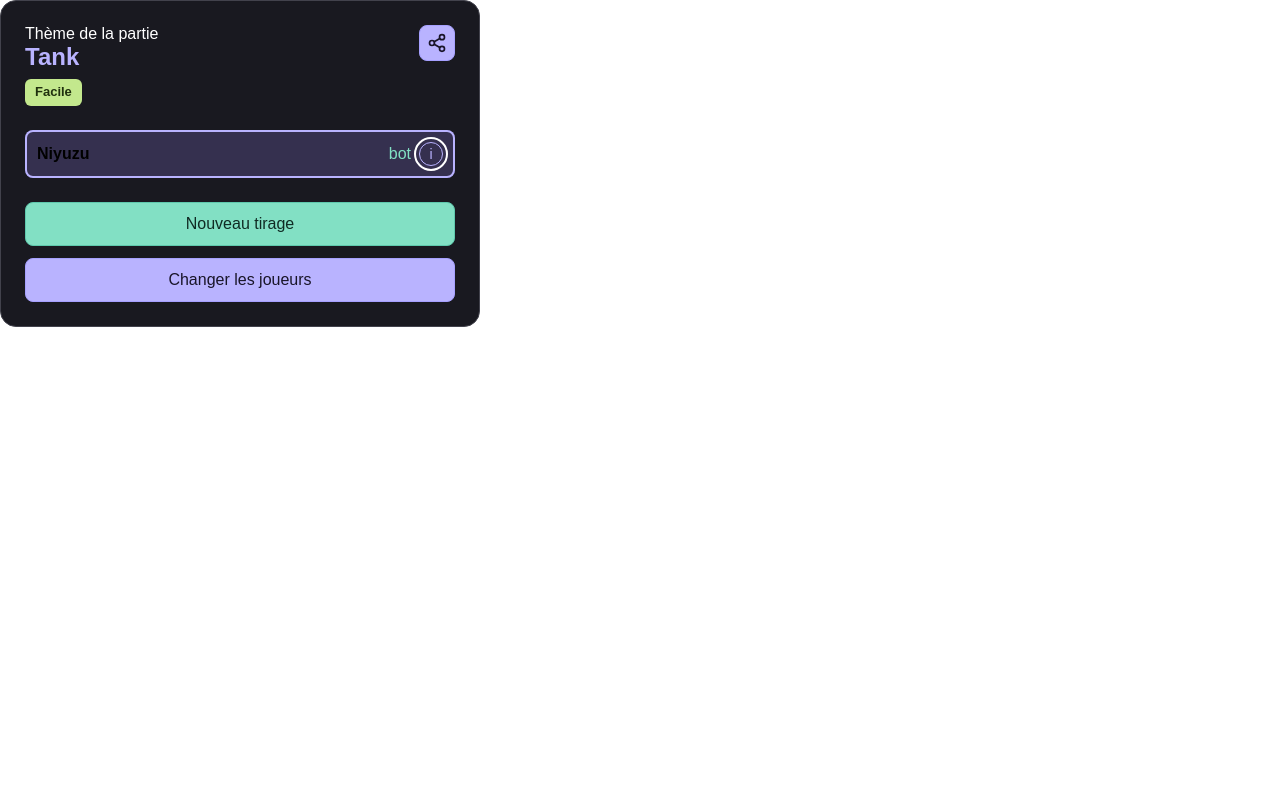
it: champion popup › explains an empty intersection
The width and height of the screenshot is (1280, 800).
Click the button "i" at (431, 154), box top-left (419, 142), bottom-right (443, 166)
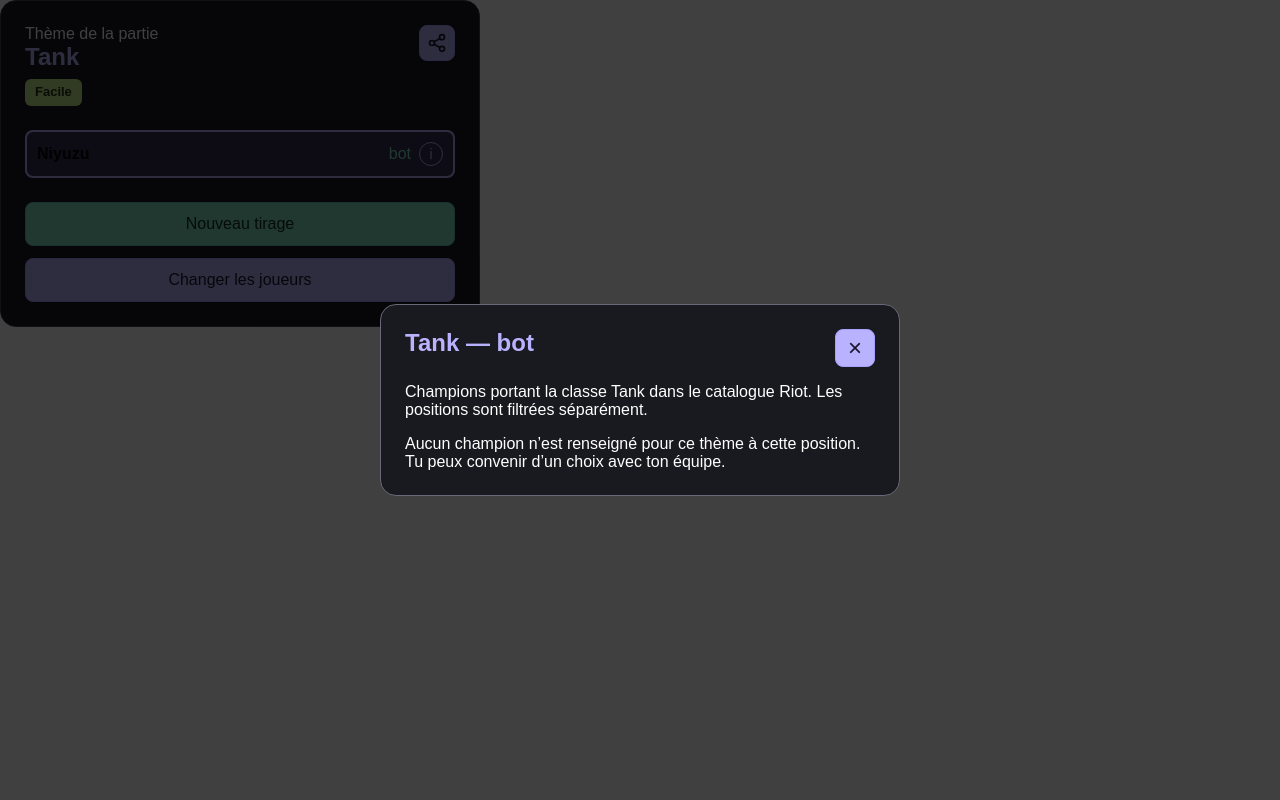
Result: the text "Aucun champion n’est renseigné" is shown at top-left (405, 435), bottom-right (860, 470)
